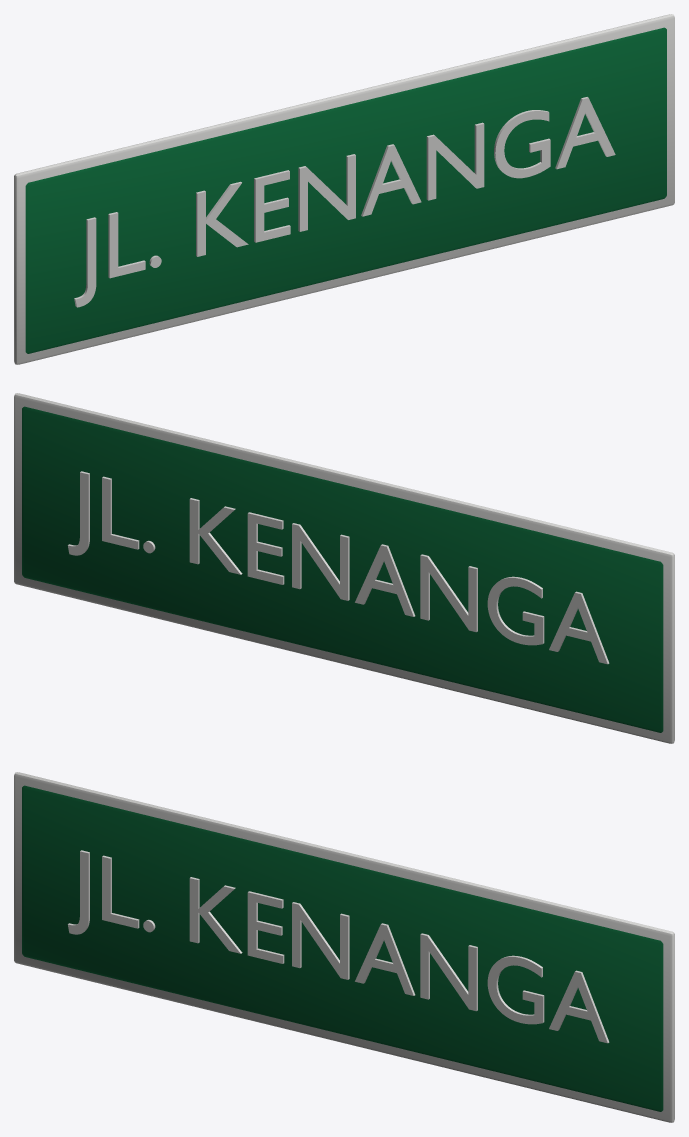
File: StreetName_kenanga.fbx
The picture shows the model from 3 angles, top to bottom: view 1: azimuth 30°, elevation 25°; view 2: azimuth 150°, elevation 25°; view 3: azimuth 330°, elevation 25°; orthographic projection.
Parts seen in each view (by area): view 1: StreetName_kenanga_Mesh; view 2: StreetName_kenanga_Mesh; view 3: StreetName_kenanga_Mesh.
Boxes of the visible parts, x1,y1,x2,y2 form: StreetName_kenanga_Mesh: (14,14,674,364); StreetName_kenanga_Mesh: (14,393,674,743); StreetName_kenanga_Mesh: (14,772,674,1122).
Bounding box in the file's own units: 1.27 × 0.35 × 0.026.
